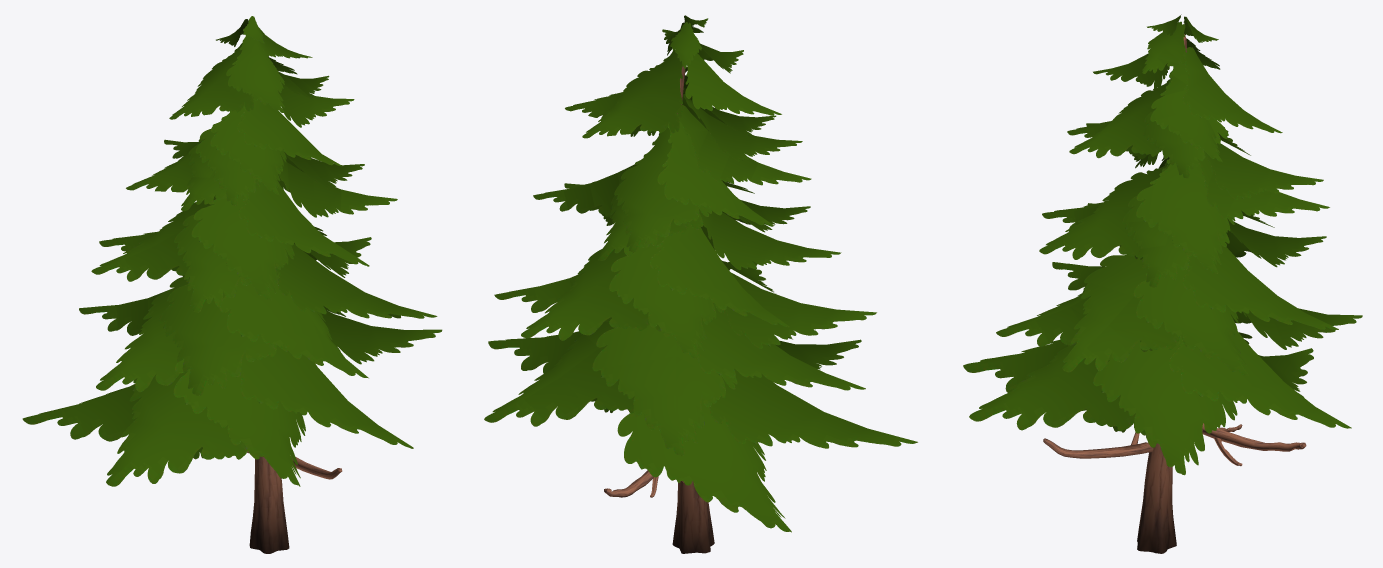
The model's file is tree-pine-2.glb.
3 renders of one model, left to right at view 1: azimuth 30°, elevation 25°; view 2: azimuth 150°, elevation 25°; view 3: azimuth 270°, elevation 25°, orthographic. The views are drawn at different scales.
Visible parts, largest first — view 1: Pine_2; view 2: Pine_2; view 3: Pine_2.
Boxes of the visible parts, <box> form: Pine_2: <box>22,16,442,553</box>; Pine_2: <box>484,15,917,553</box>; Pine_2: <box>963,14,1362,553</box>.
Size of the model in its own units: 5.73 by 7.38 by 5.22.
Materials: 2 (2 with a texture image).
